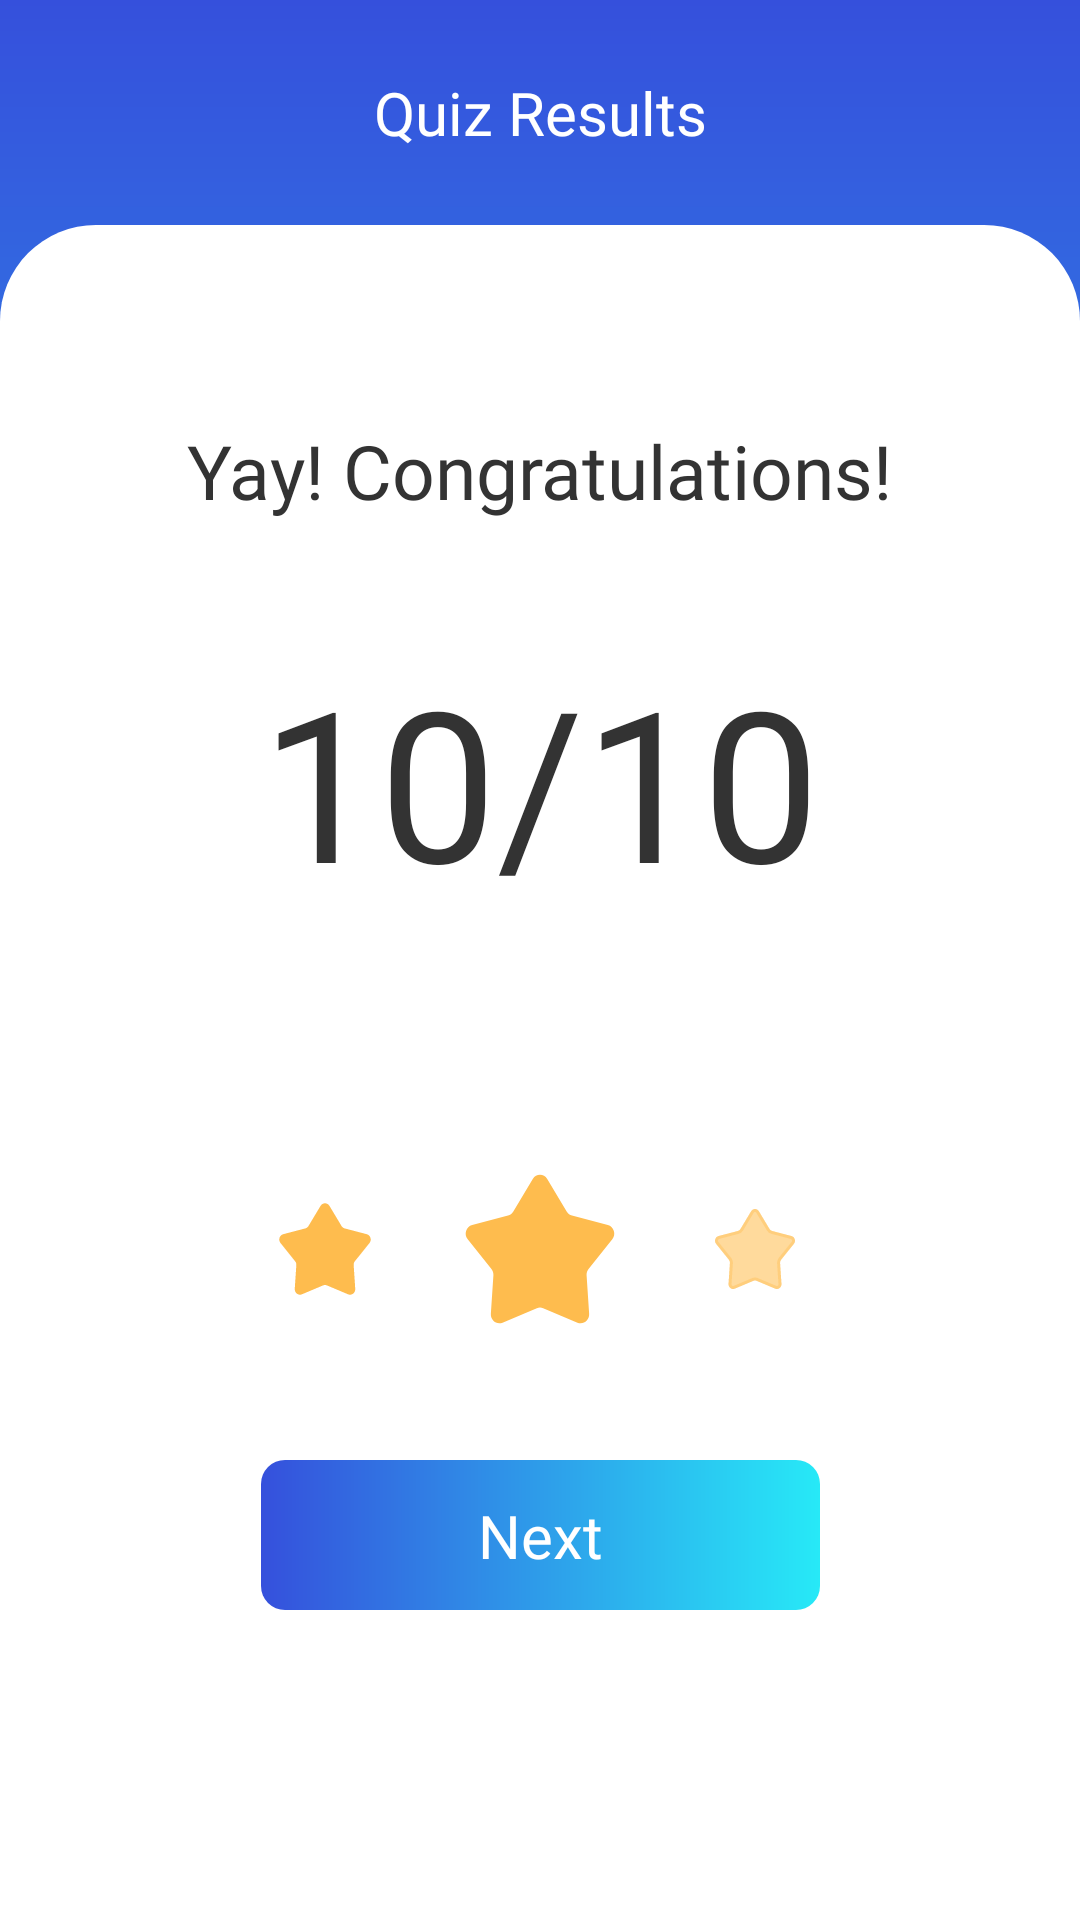

Where to tap for icons on this 1080×1920 app screen, as (x=x, y=y):
star win: (x=540, y=1249), (x=325, y=1249)
